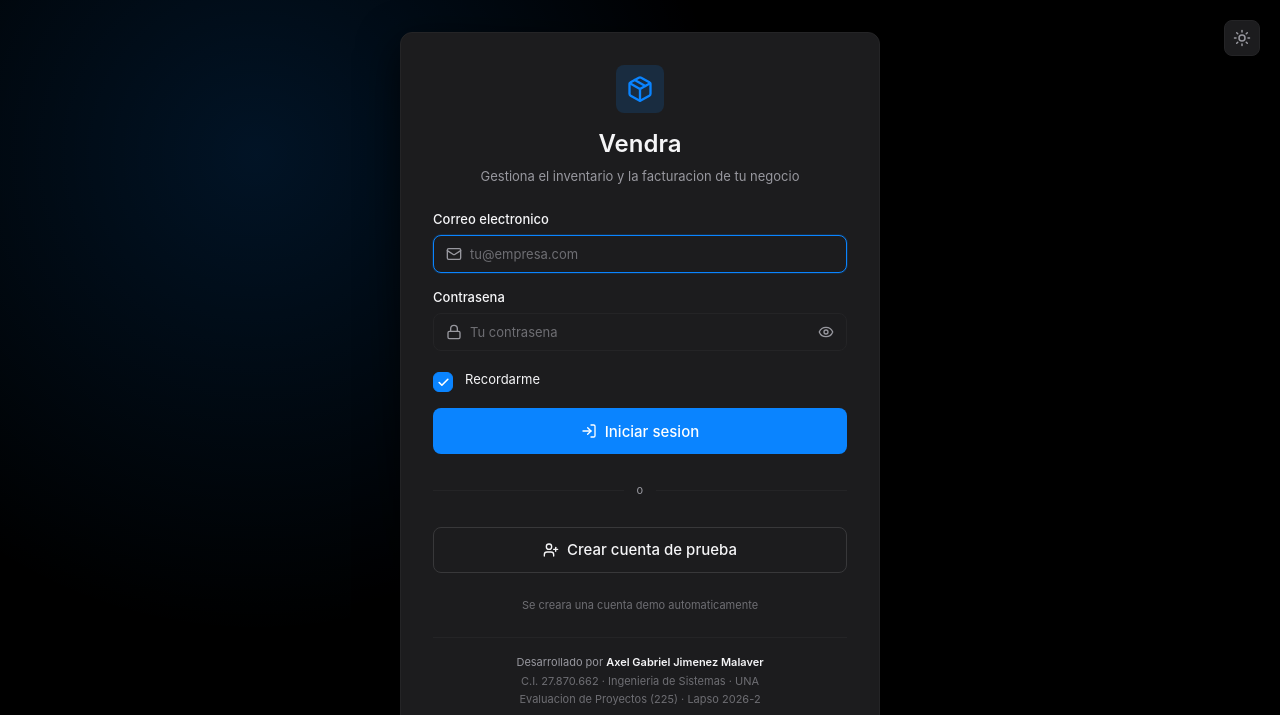
Test: Login › shows validation errors when submitting empty form
This screenshot has width=1280, height=715.
Click the button "Iniciar sesion".
click(640, 431)  # box [433,408,847,454]
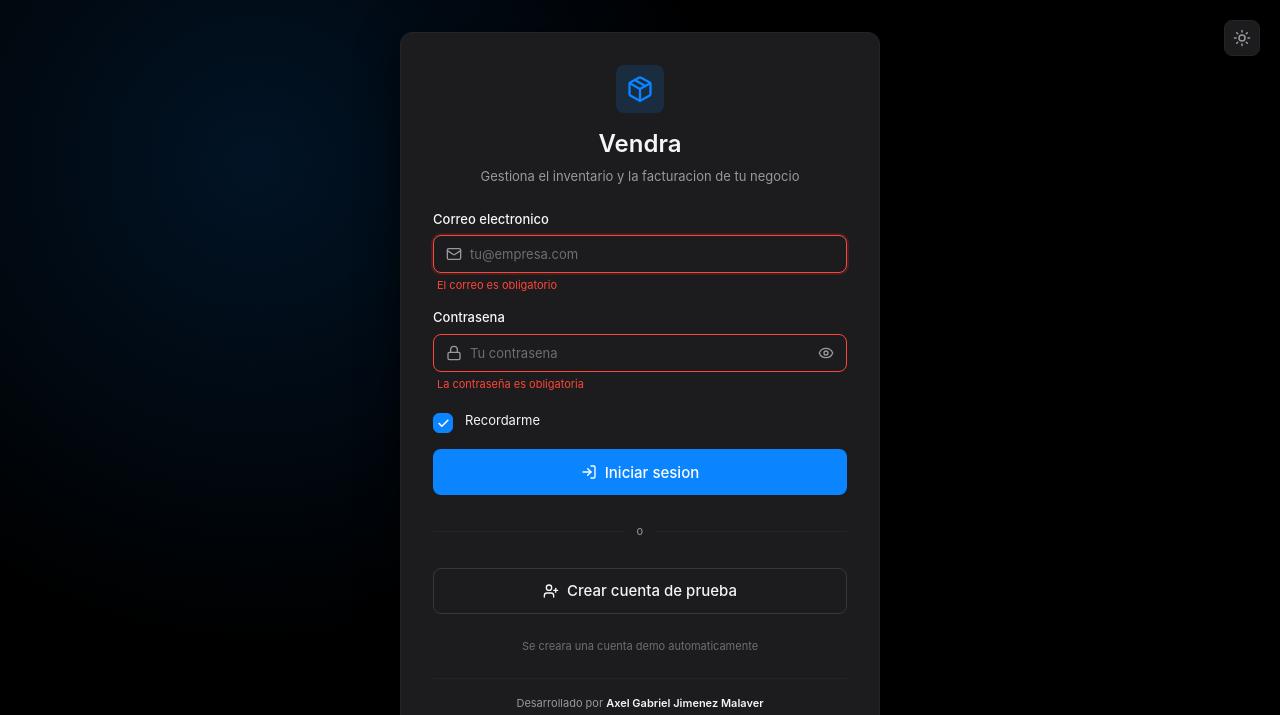
Check: the text "El correo es obligatorio" is shown, box [437,278,557,292]
Check: the text "La contraseña es obligatoria" is shown, box [437,376,584,390]
